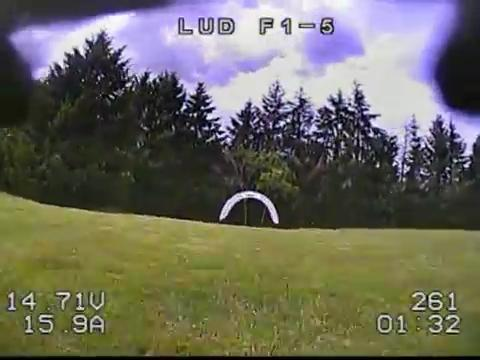gate: (218, 189, 278, 225)
